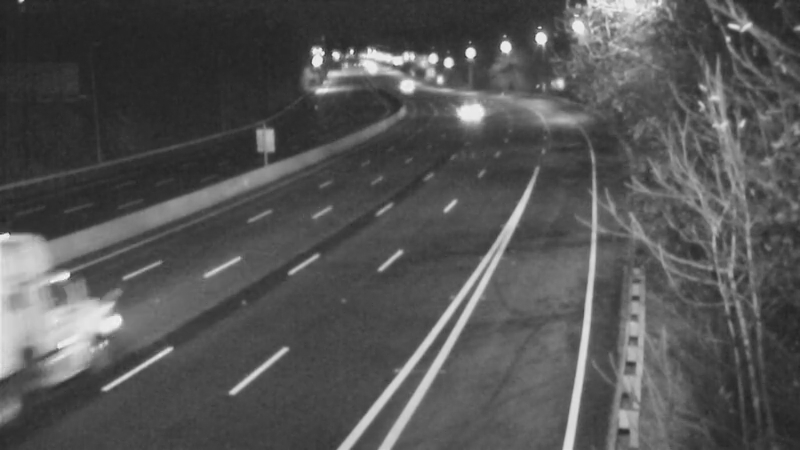vehicle: (376, 60, 426, 110), (450, 84, 500, 134)
